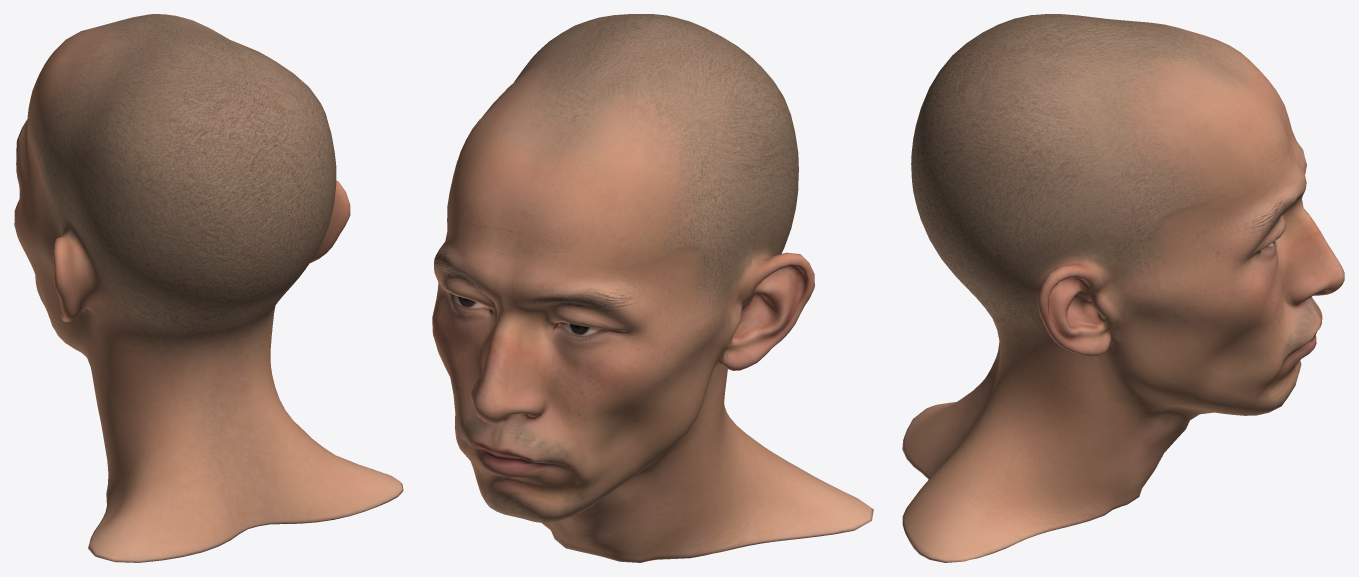
File: Model_HairHead_Shunzi.glb
3 renders of one model, left to right at view 1: azimuth 30°, elevation 25°; view 2: azimuth 150°, elevation 25°; view 3: azimuth 270°, elevation 25°, orthographic. The views are drawn at different scales.
Parts seen in each view (by area): view 1: HairHead_Shunzi; view 2: HairHead_Shunzi; view 3: HairHead_Shunzi.
Boxes of the visible parts, x1,y1,x2,y2 form: HairHead_Shunzi: [14, 14, 403, 562]; HairHead_Shunzi: [432, 14, 873, 562]; HairHead_Shunzi: [902, 14, 1344, 562].
Size of the model in its own units: 0.2331 by 0.3195 by 0.2772.
Materials: 1 (1 with a texture image).
